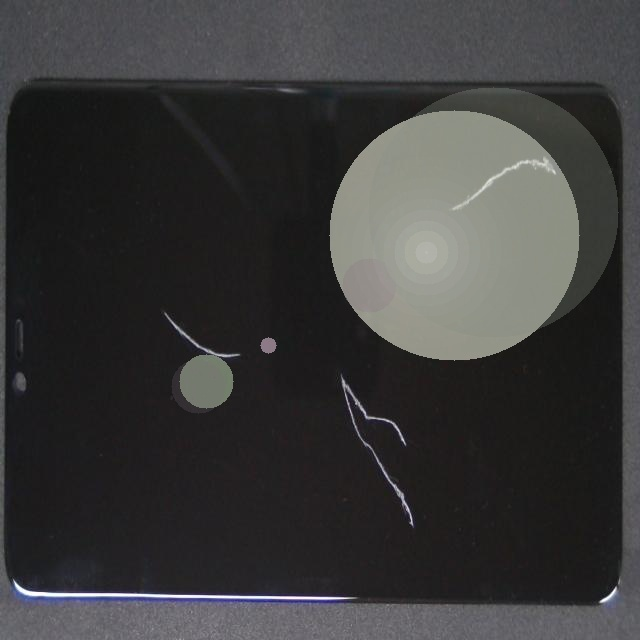scratch: (259, 268, 599, 633), (153, 181, 369, 519), (261, 117, 640, 294)
